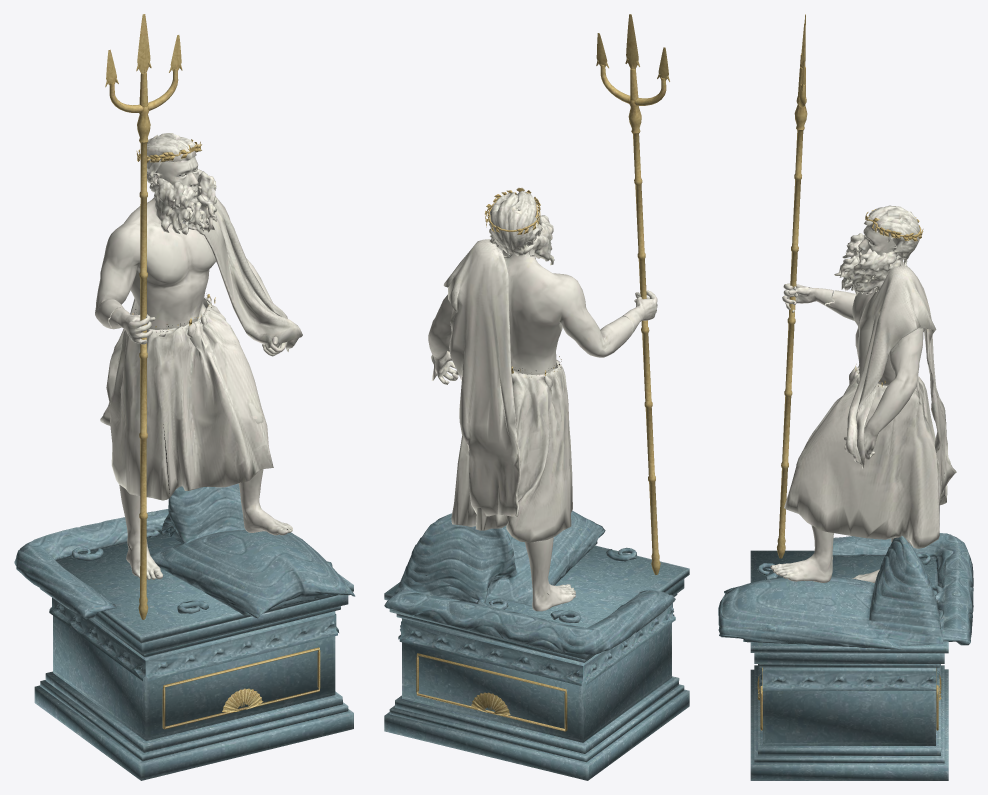
The model's file is guardian-tides-lod0.glb.
3 renders of one model, left to right at view 1: azimuth 30°, elevation 25°; view 2: azimuth 150°, elevation 25°; view 3: azimuth 270°, elevation 25°, orthographic. The views are drawn at different scales.
Visible parts, largest first — view 1: TIDES__PEDESTAL, TIDES__CLOTH, TIDES__WAVES, TIDES__BODY, TIDES__TRIDENT, TIDES__HAIR_BEARD, TIDES__DETAILS, TIDES__FACE, TIDES__HAND_GRIP; view 2: TIDES__PEDESTAL, TIDES__CLOTH, TIDES__WAVES, TIDES__BODY, TIDES__TRIDENT, TIDES__HAIR_BEARD, TIDES__DETAILS, TIDES__HAND_GRIP; view 3: TIDES__PEDESTAL, TIDES__CLOTH, TIDES__WAVES, TIDES__BODY, TIDES__HAIR_BEARD, TIDES__TRIDENT, TIDES__HAND_GRIP, TIDES__DETAILS, TIDES__FACE.
Part boxes in pixels (x1,y1,x2,y2): TIDES__PEDESTAL: [34, 533, 353, 780]; TIDES__CLOTH: [100, 196, 302, 500]; TIDES__WAVES: [14, 483, 355, 619]; TIDES__BODY: [95, 197, 292, 579]; TIDES__TRIDENT: [105, 14, 182, 619]; TIDES__HAIR_BEARD: [147, 133, 217, 235]; TIDES__DETAILS: [132, 139, 320, 729]; TIDES__FACE: [152, 156, 198, 200]; TIDES__HAND_GRIP: [108, 307, 155, 344]; TIDES__PEDESTAL: [384, 545, 689, 780]; TIDES__CLOTH: [431, 239, 572, 542]; TIDES__WAVES: [384, 510, 675, 654]; TIDES__BODY: [428, 245, 633, 611]; TIDES__TRIDENT: [596, 14, 669, 574]; TIDES__HAIR_BEARD: [489, 191, 554, 265]; TIDES__DETAILS: [416, 188, 567, 731]; TIDES__HAND_GRIP: [622, 290, 657, 333]; TIDES__PEDESTAL: [750, 550, 948, 780]; TIDES__CLOTH: [784, 264, 956, 548]; TIDES__WAVES: [718, 533, 973, 649]; TIDES__BODY: [770, 258, 925, 583]; TIDES__HAIR_BEARD: [834, 205, 919, 295]; TIDES__TRIDENT: [777, 14, 807, 558]; TIDES__HAND_GRIP: [782, 283, 834, 312]; TIDES__DETAILS: [757, 209, 941, 730]; TIDES__FACE: [858, 226, 899, 261].
Bounding box in the file's own units: 3.37 × 9.9 × 3.34.
3 materials, 3 textured.
